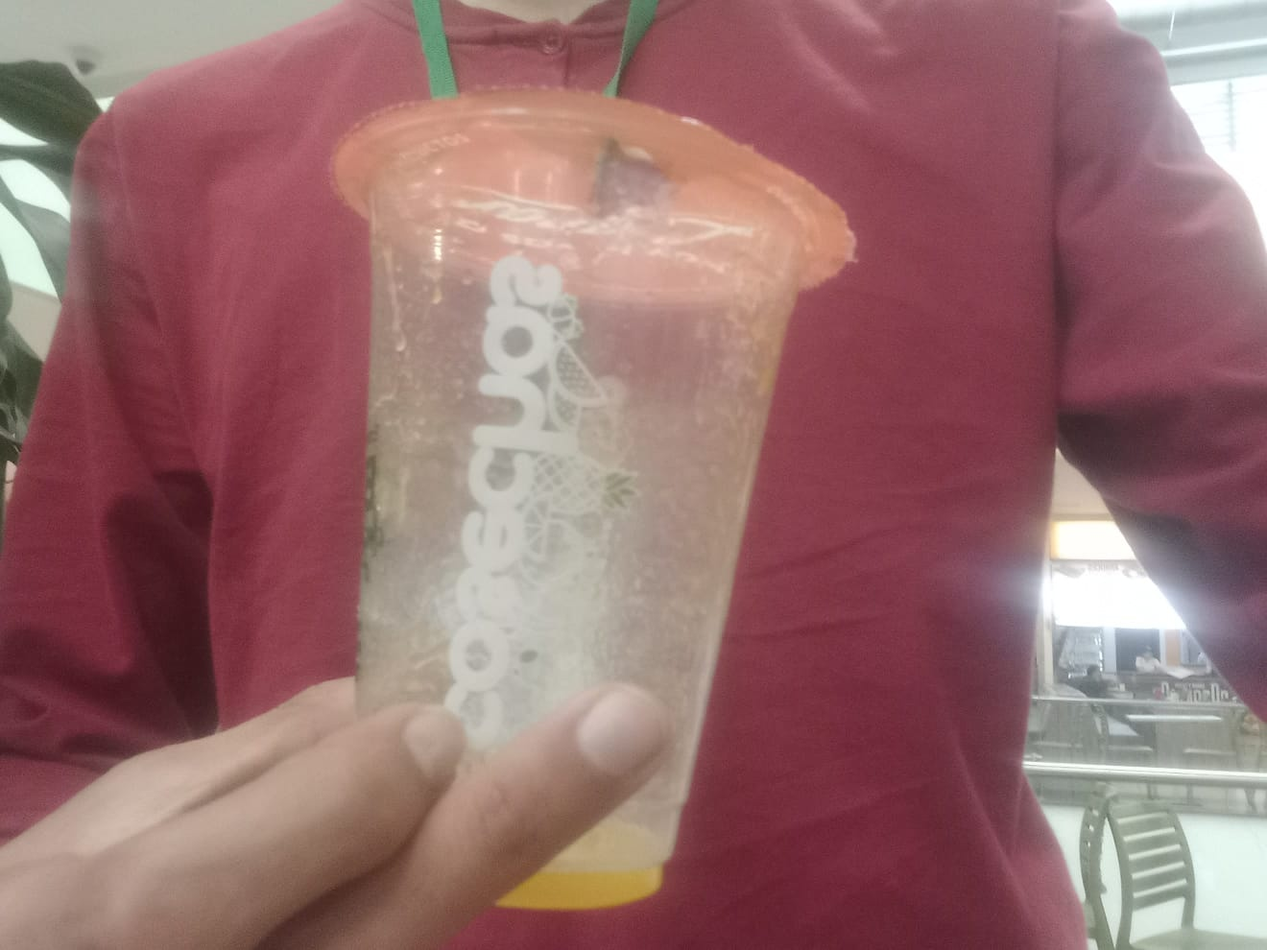Plastico: (327, 82, 857, 913)
